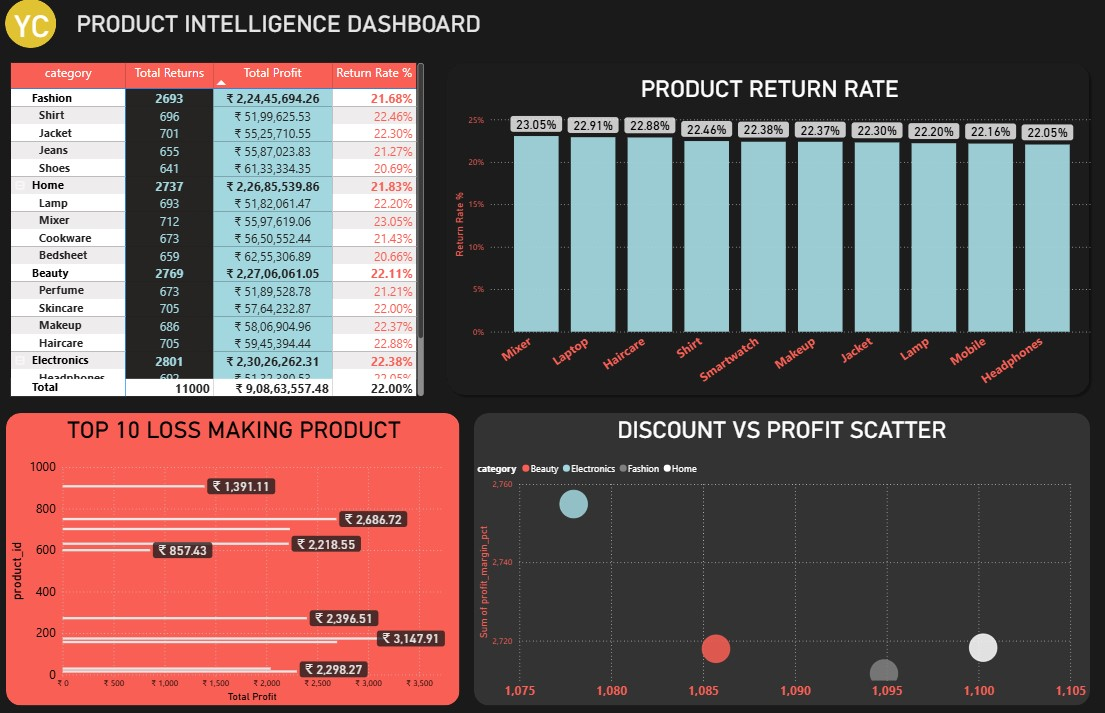

The page's visual inventory and layout, read from the dashboard file:
{"tool":"powerbi","page":{"name":"Product Intelligence","canvas":[1580,1020],"ordinal":1},"visuals":[{"type":"shape","box":[10,592,648,418],"z":0},{"type":"shape","box":[678,592,880,418],"z":1000},{"type":"shape","box":[634,84,930,488],"z":2000},{"type":"clusteredColumnChart","fields":{"Category":["final_analytics_dataset.sub_category"],"Y":["final_analytics_dataset.Return Rate %"]},"box":[644,154,924,418],"z":3000},{"type":"clusteredBarChart","fields":{"Category":["final_analytics_dataset.product_id"],"Y":["final_analytics_dataset.Total Profit"]},"box":[10,650,648,360],"z":4000},{"type":"textbox","box":[678,592,880,50],"z":5000},{"type":"pivotTable","fields":{"Rows":["final_analytics_dataset.category","final_analytics_dataset.sub_category"],"Values":["final_analytics_dataset.Total Returns","final_analytics_dataset.Total Profit","final_analytics_dataset.Return Rate %"]},"box":[10,84,602,488],"z":6000},{"type":"scatterChart","fields":{"Y":["Sum(final_analytics_dataset.profit_margin_pct)"],"X":["Sum(final_analytics_dataset.discount_pct)"],"Size":["final_analytics_dataset.Total Revenue"],"Series":["final_analytics_dataset.category"]},"box":[678,650,880,360],"z":7000},{"type":"textbox","box":[16,592,640,50],"z":8000},{"type":"textbox","box":[644,104,914,50],"z":9000},{"type":"shape","box":[8.3,0,73.3,70],"z":9001},{"type":"textbox","box":[5,8.3,81.7,65],"z":9003},{"type":"textbox","box":[98.3,11.7,601.7,53.3],"z":9004}]}

Visuals, with their boxes in screenshot pixels (x1, y1, x2, y2), scaled from the page's 1580x1020 canvas onto the 1105x713 screenshot:
shape: {"x1": 7, "y1": 414, "x2": 460, "y2": 706}
shape: {"x1": 474, "y1": 414, "x2": 1090, "y2": 706}
shape: {"x1": 443, "y1": 59, "x2": 1094, "y2": 400}
clusteredColumnChart - final_analytics_dataset.sub_category x final_analytics_dataset.Return Rate %: {"x1": 450, "y1": 108, "x2": 1097, "y2": 400}
clusteredBarChart - final_analytics_dataset.product_id x final_analytics_dataset.Total Profit: {"x1": 7, "y1": 454, "x2": 460, "y2": 706}
textbox: {"x1": 474, "y1": 414, "x2": 1090, "y2": 449}
pivotTable - final_analytics_dataset.category x final_analytics_dataset.sub_category: {"x1": 7, "y1": 59, "x2": 428, "y2": 400}
scatterChart - Sum(final_analytics_dataset.profit_margin_pct) x Sum(final_analytics_dataset.discount_pct): {"x1": 474, "y1": 454, "x2": 1090, "y2": 706}
textbox: {"x1": 11, "y1": 414, "x2": 459, "y2": 449}
textbox: {"x1": 450, "y1": 73, "x2": 1090, "y2": 108}
shape: {"x1": 6, "y1": 0, "x2": 57, "y2": 49}
textbox: {"x1": 3, "y1": 6, "x2": 61, "y2": 51}
textbox: {"x1": 69, "y1": 8, "x2": 490, "y2": 45}
